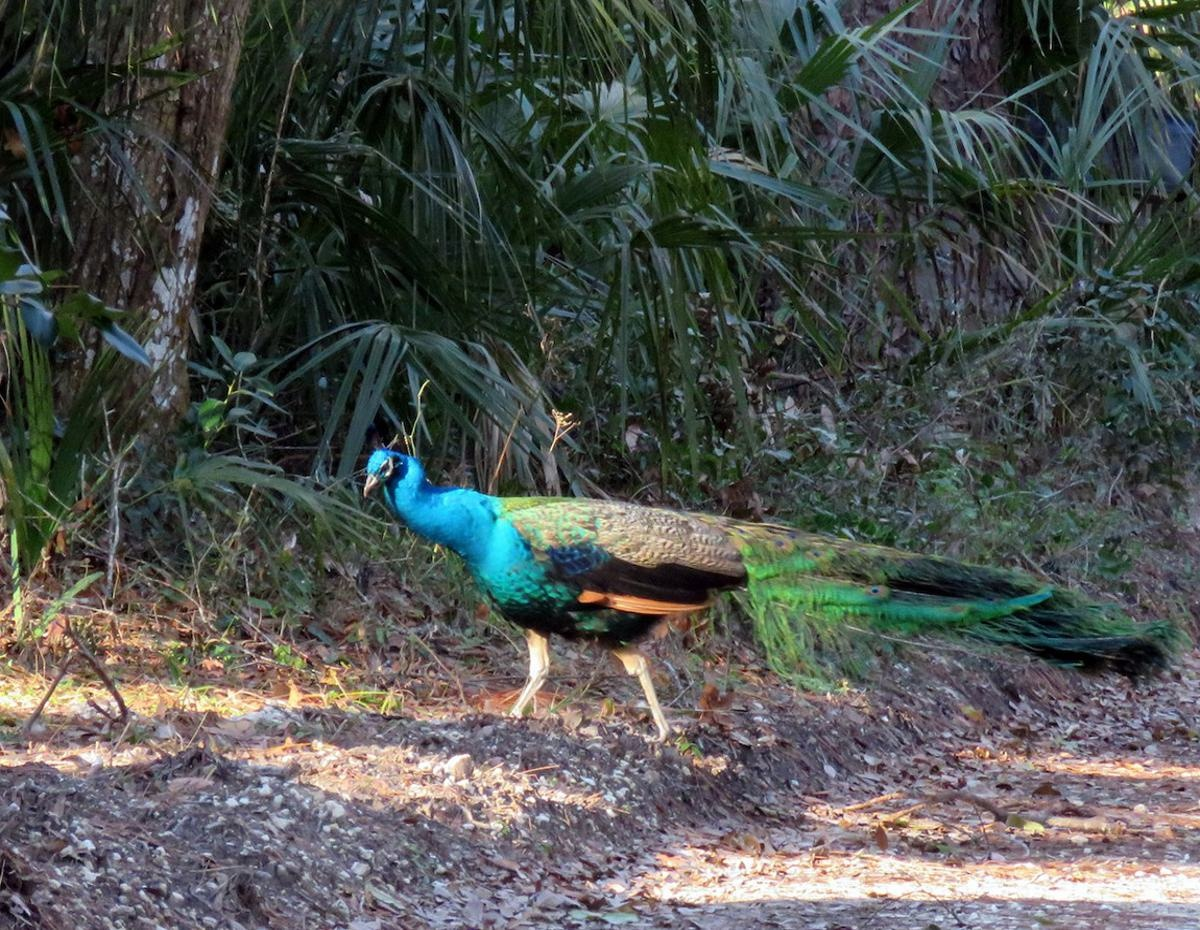peacock: (349, 379, 1187, 801)
